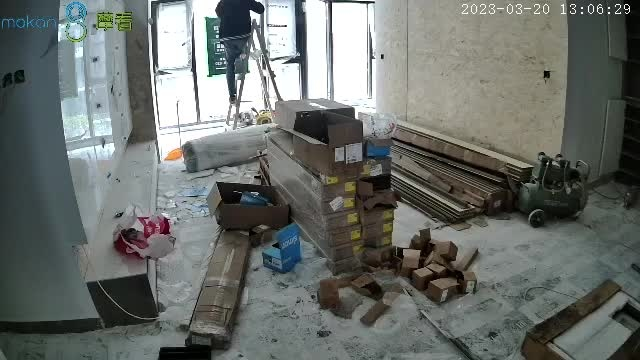people: (217, 1, 266, 102)
window: (155, 2, 372, 126)
